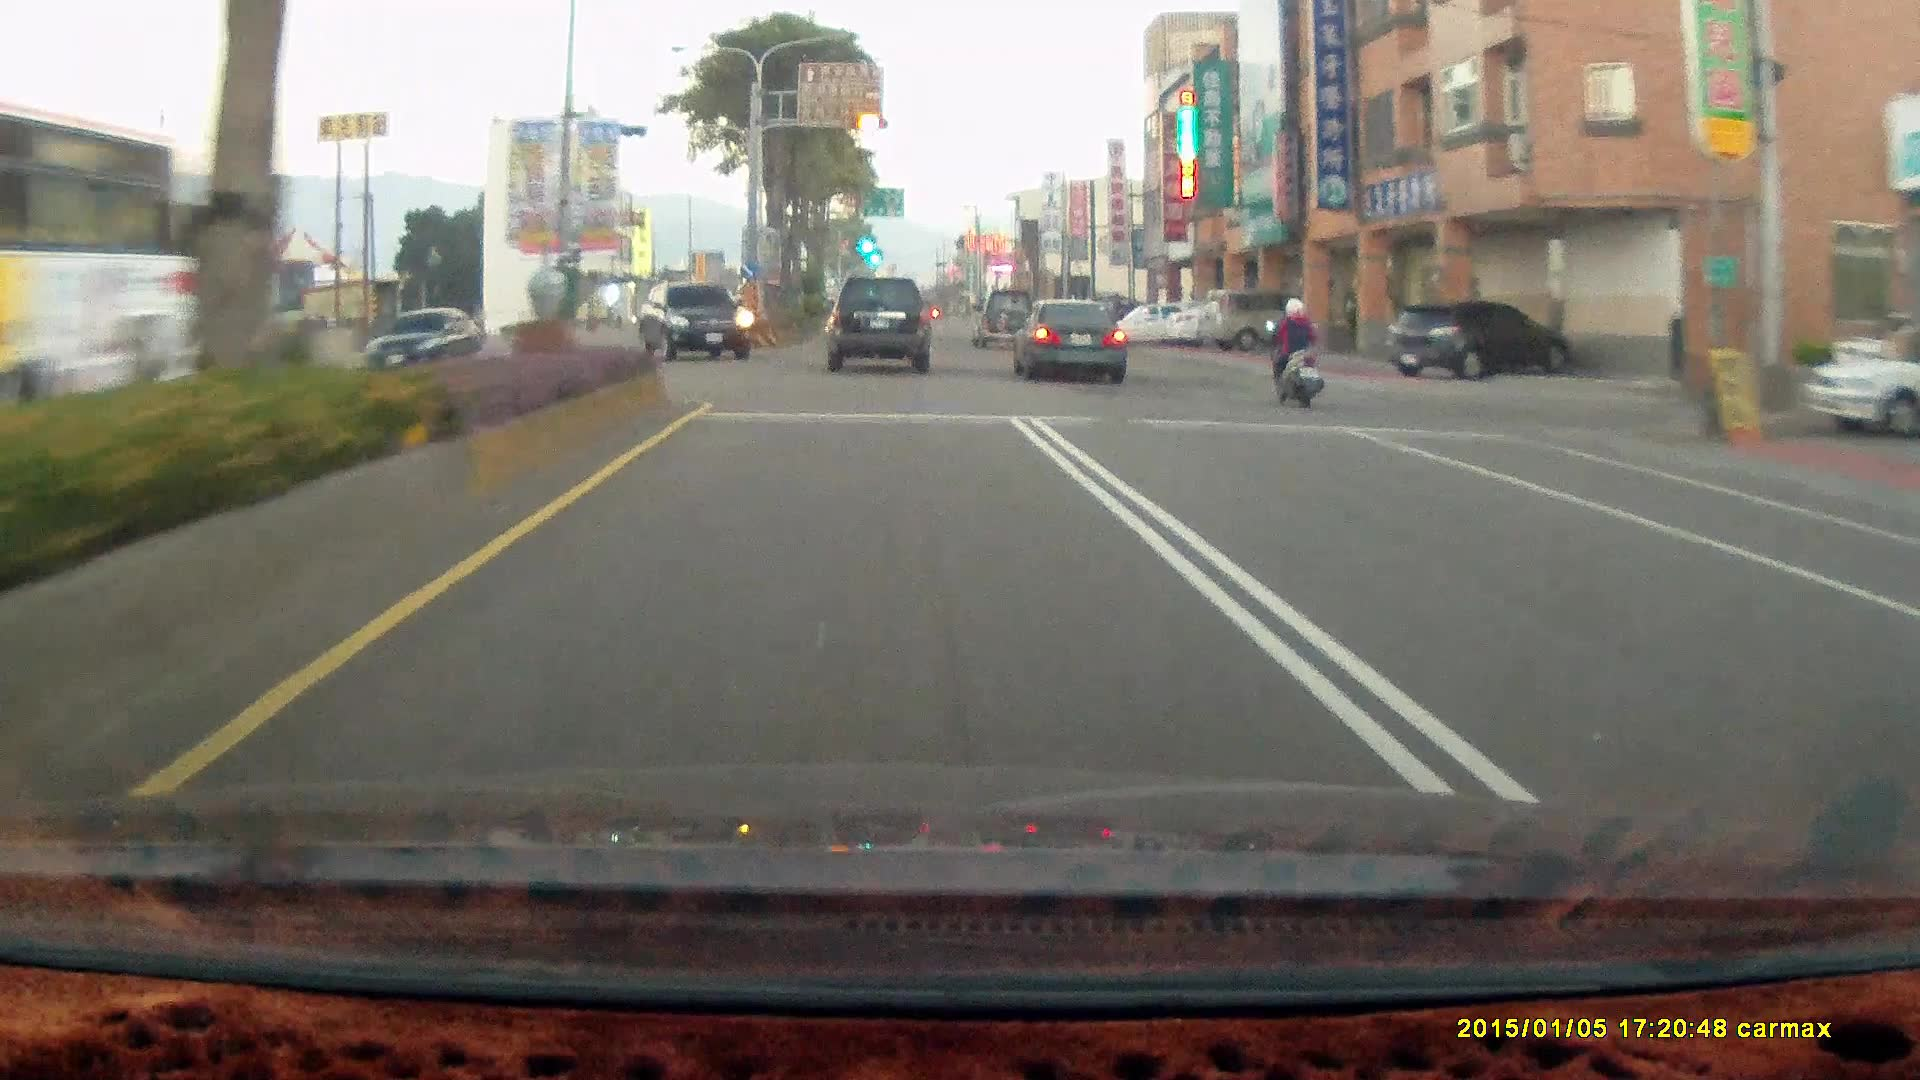rider: (1255, 290, 1335, 417), (1268, 299, 1327, 410)
vehicle: (0, 110, 176, 465), (1384, 300, 1573, 381), (1389, 302, 1578, 381), (1800, 339, 1920, 438), (1803, 336, 1920, 437), (824, 281, 931, 377), (1009, 295, 1127, 381), (825, 276, 930, 372), (1010, 301, 1128, 384), (636, 279, 752, 362), (638, 288, 755, 364), (362, 306, 483, 377), (1195, 289, 1321, 353), (1195, 291, 1310, 357), (1103, 300, 1210, 348), (970, 289, 1038, 351)
